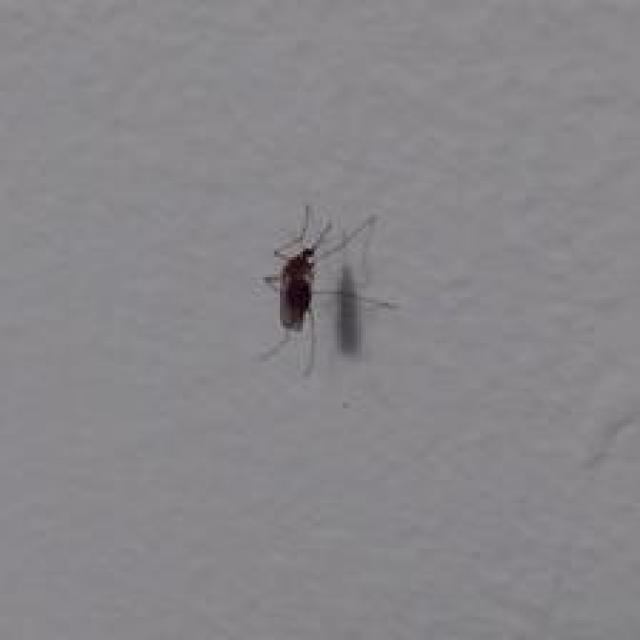Culex: (254, 203, 397, 377)
